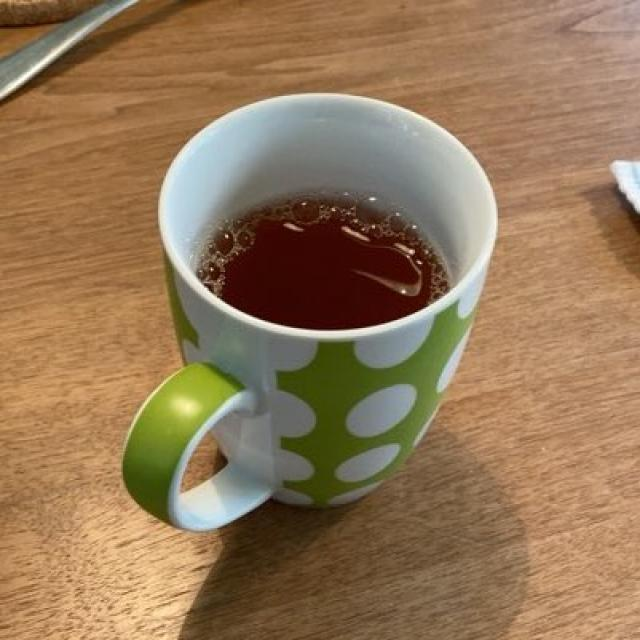tea: (200, 193, 446, 321)
